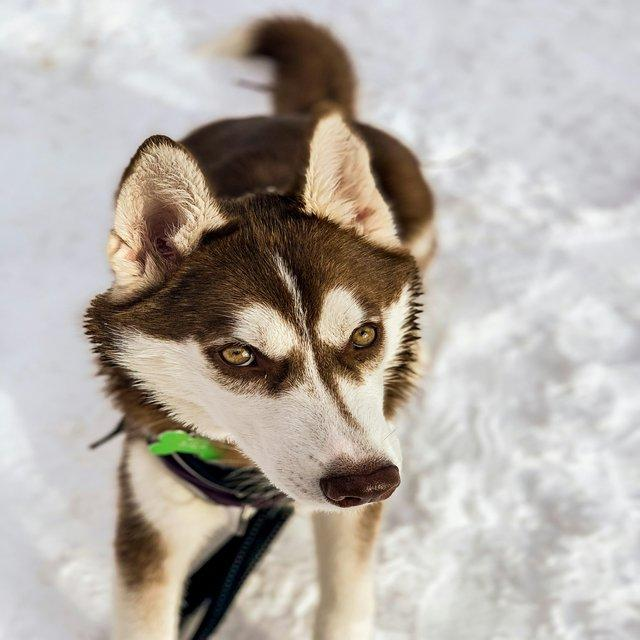husky: (81, 13, 438, 638)
